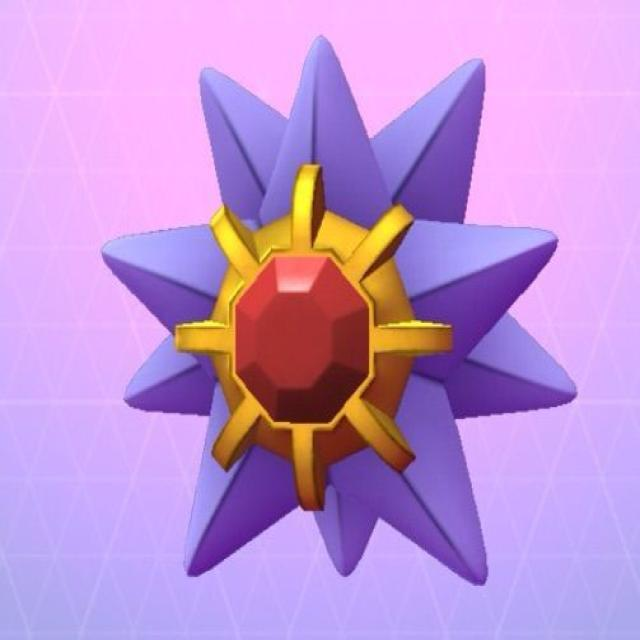Starmie: (92, 42, 577, 584)
